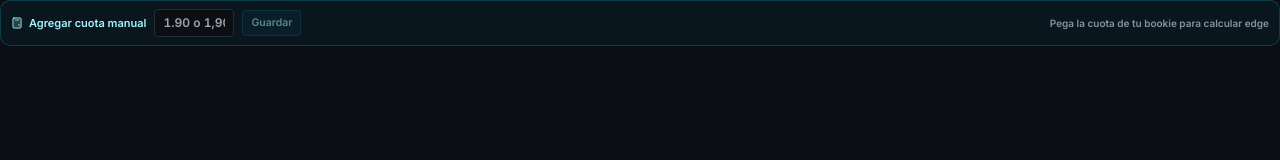
manual_odds_saved_only_shows_regenerate_cta
Type "1.64" into the field with test id "inline-manual-odds-input-field" at (194, 23), box [154,9,234,37]
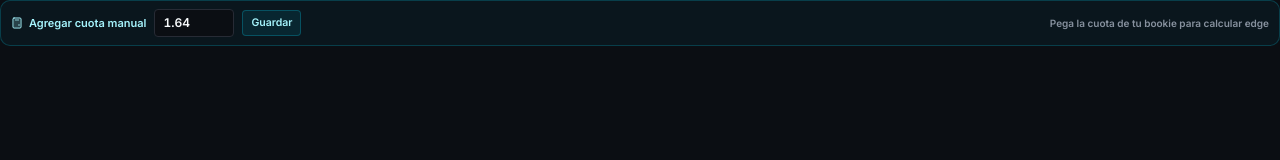
Click the button with test id "inline-manual-odds-input-submit" at (272, 23), box [242,10,301,36]
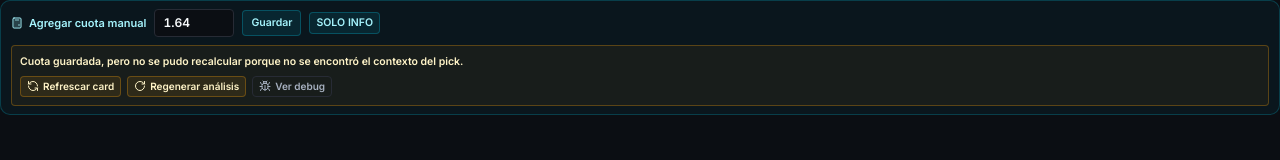
Expected: the element with test id "inline-manual-odds-input-saved-only" is shown, [11,45,1269,106]
Expected: the button with test id "inline-manual-odds-input-refresh" shows "Refrescar", [20,76,121,97]
Expected: the button with test id "inline-manual-odds-input-regenerate" shows "Regenerar", [127,76,246,97]
